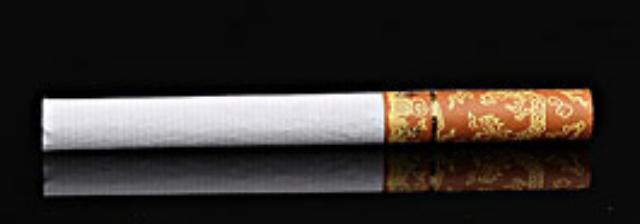Cigarette: (39, 87, 592, 147)
